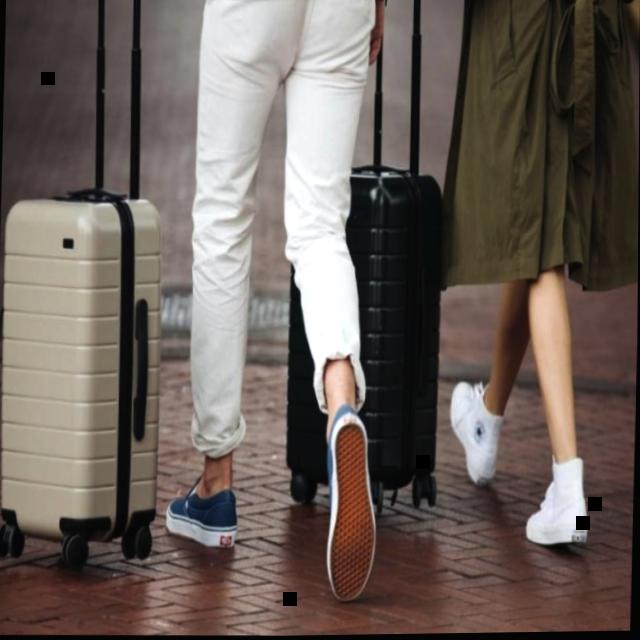luggage: (0, 177, 167, 547), (285, 162, 447, 499)
